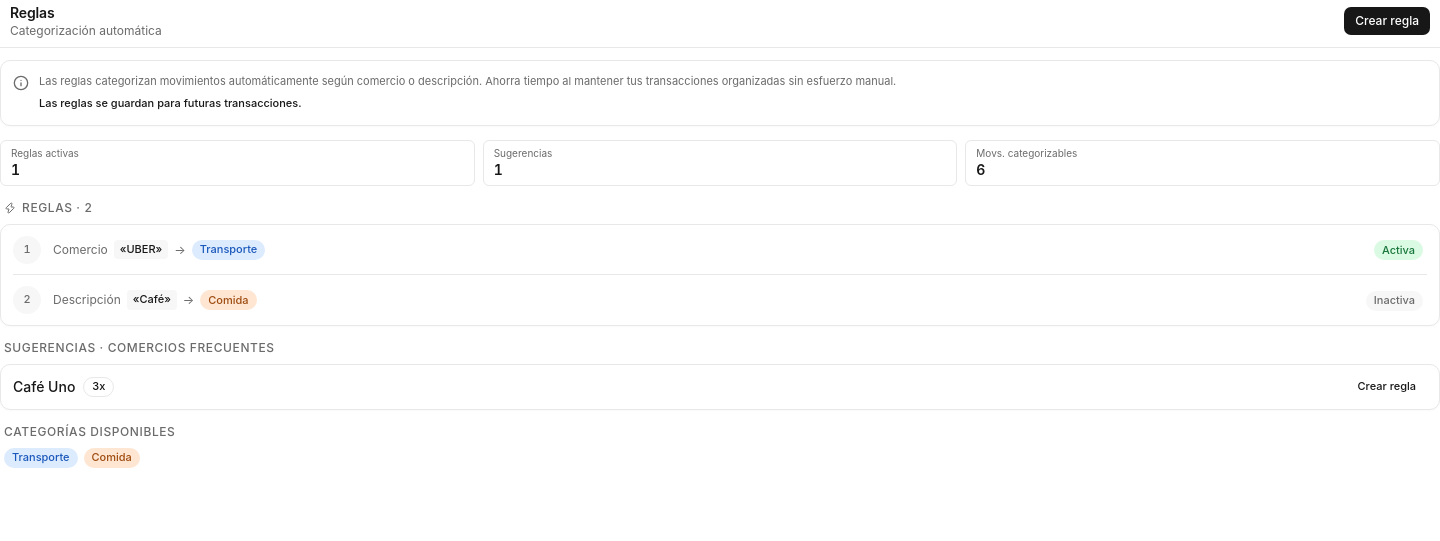
RulesPage › announces a rejected toggle and clears it before successful retry
Click the button with aria-label "Desactivar regla". click: (1398, 250)
box: top-left (1370, 235), bottom-right (1427, 264)
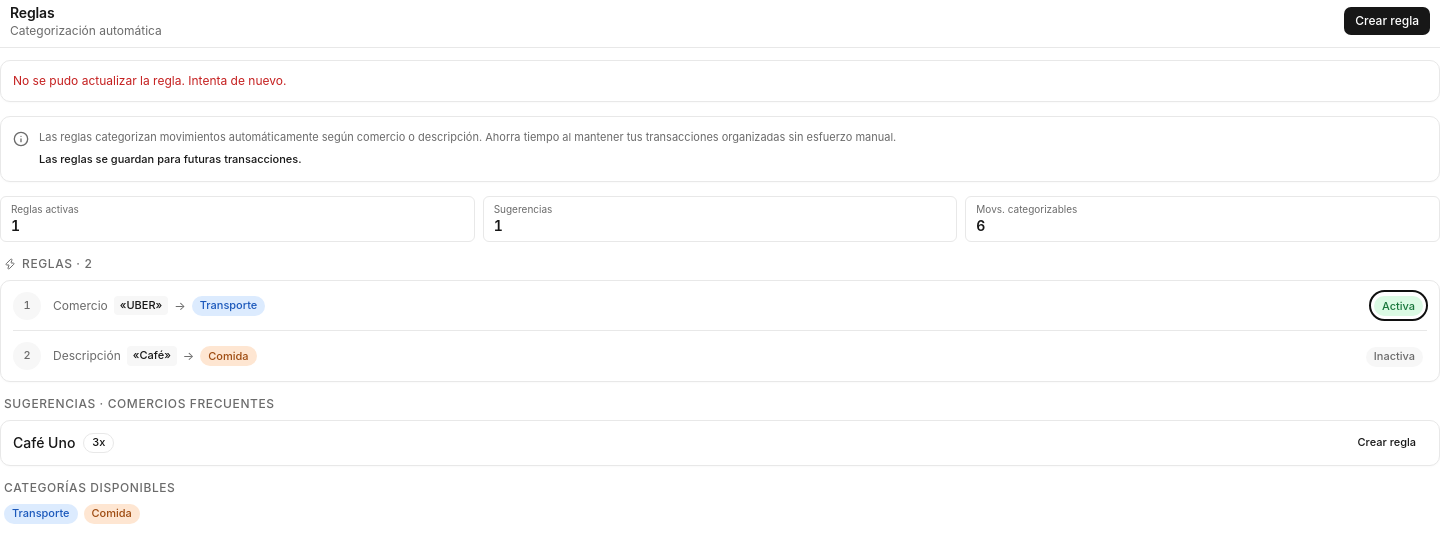
Check: the message shows "No se pudo actualizar la regla", box top-left (13, 73), bottom-right (286, 88)
Click the button with aria-label "Desactivar regla". click: (1398, 306)
box: top-left (1370, 291), bottom-right (1427, 320)
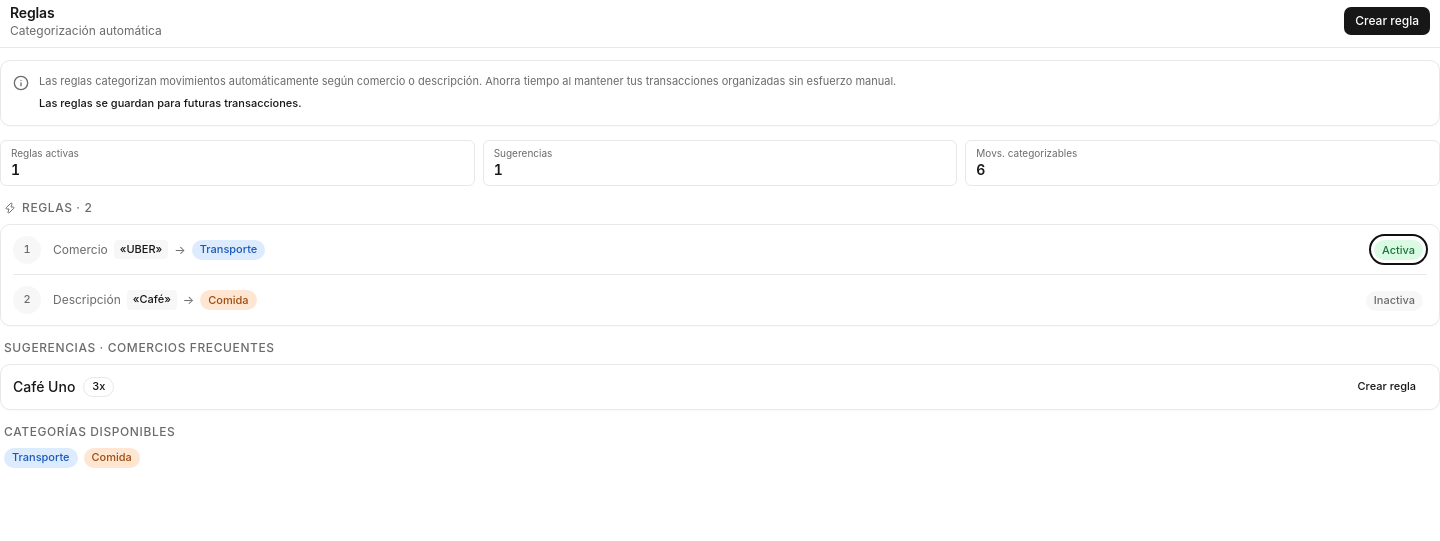
Check: the message "No se pudo actualizar la regla. Intenta de nuevo." is gone
